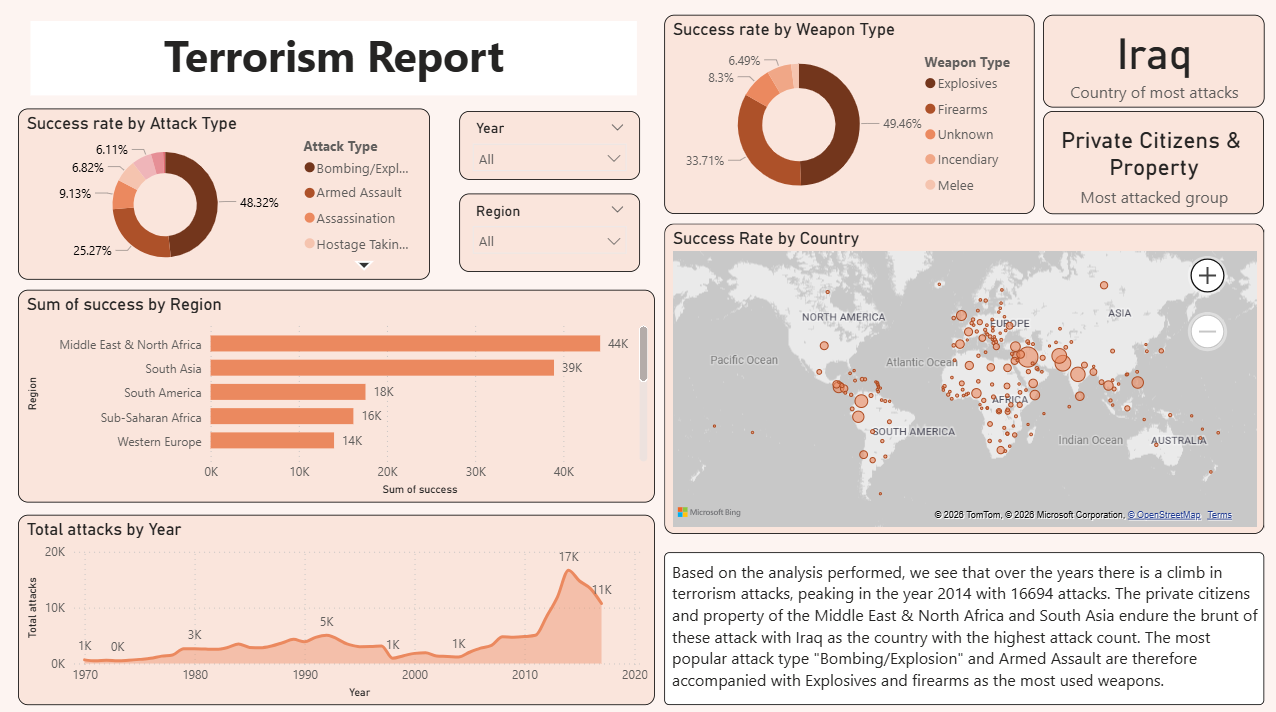

This screenshot's page, from the dashboard's own definition file:
{"tool":"powerbi","page":{"name":"Page 1","canvas":[1280,720],"ordinal":0},"visuals":[{"type":"donutChart","fields":{"Category":["Terrorism.AttackType"],"Y":["Sum(Terrorism.success)"]},"box":[20.6,112.5,411.7,171.5],"z":0},{"type":"donutChart","fields":{"Category":["Terrorism.WeapType"],"Y":["Sum(Terrorism.success)"]},"box":[666.3,18.9,370.5,199],"z":1000},{"type":"map","fields":{"Category":["Terrorism.Country"],"Size":["Sum(Terrorism.success)"]},"box":[666.7,227.2,600,310.2],"z":2000},{"type":"barChart","fields":{"Category":["Terrorism.Region"],"Y":["Sum(Terrorism.success)"]},"box":[20.6,293.7,636.7,212.7],"z":3000},{"type":"areaChart","fields":{"Category":["Terrorism.Year"],"Y":["CountNonNull(Terrorism.Year)"]},"box":[20.6,518.7,636.7,190.7],"z":4000},{"type":"slicer","fields":{"Values":["Terrorism.Year"]},"box":[460.8,114.6,181.1,68.6],"z":5000},{"type":"card","fields":{"Values":["Min(Terrorism.TargType)"]},"box":[1045.1,115.4,220.9,102.9],"z":6000},{"type":"card","fields":{"Values":["Min(Terrorism.Country)"]},"box":[1044.9,19,221.8,93],"z":7000},{"type":"slicer","fields":{"Values":["Terrorism.Region"]},"box":[460.8,196.9,181.1,78.2],"z":8000},{"type":"textbox","box":[32.9,24.7,606.5,74.1],"z":9000},{"type":"textbox","box":[666.2,556.2,600.2,152.8],"z":10000}]}

Visuals, with their boxes in screenshot pixels (x1, y1, x2, y2), scaled from the page's 1280x720 canvas onto the 1276x712 screenshot:
donutChart - Terrorism.AttackType x Sum(Terrorism.success): Rect(21, 111, 431, 281)
donutChart - Terrorism.WeapType x Sum(Terrorism.success): Rect(664, 19, 1034, 215)
map - Terrorism.Country x Sum(Terrorism.success): Rect(665, 225, 1263, 531)
barChart - Terrorism.Region x Sum(Terrorism.success): Rect(21, 290, 655, 501)
areaChart - Terrorism.Year x CountNonNull(Terrorism.Year): Rect(21, 513, 655, 702)
slicer - Terrorism.Year: Rect(459, 113, 640, 181)
card - Min(Terrorism.TargType): Rect(1042, 114, 1262, 216)
card - Min(Terrorism.Country): Rect(1042, 19, 1263, 111)
slicer - Terrorism.Region: Rect(459, 195, 640, 272)
textbox: Rect(33, 24, 637, 98)
textbox: Rect(664, 550, 1262, 701)
